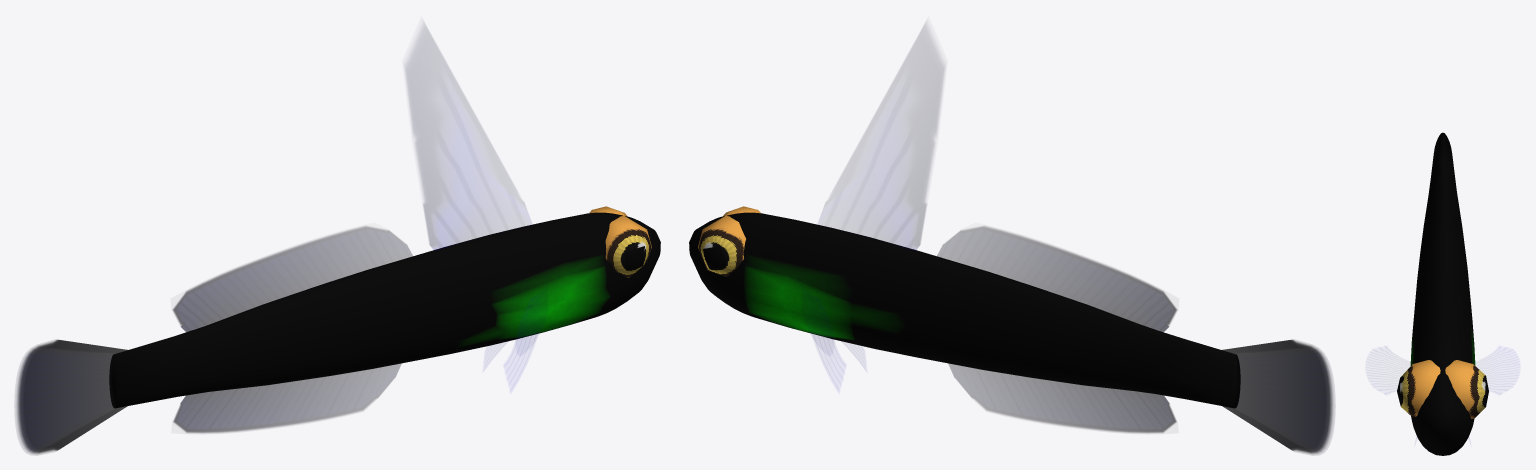
Rendered from firefish_lod1.glb.
3 renders of one model, left to right at view 1: azimuth 30°, elevation 25°; view 2: azimuth 150°, elevation 25°; view 3: azimuth 270°, elevation 25°, orthographic. The views are drawn at different scales.
Parts seen in each view (by area): view 1: Body, FinDorsal, FinDorsal2, FinCaudal, FinAnal, EyeR; view 2: Body, FinDorsal, FinDorsal2, FinCaudal, FinAnal, EyeL; view 3: Body, EyeL, EyeR.
Part boxes in pixels (box(x1,y1,x2,y2)): Body: box(109, 212, 660, 408); FinDorsal: box(405, 25, 526, 250); FinDorsal2: box(172, 226, 412, 332); FinCaudal: box(15, 339, 128, 454); FinAnal: box(173, 364, 400, 433); EyeR: box(605, 215, 651, 277); Body: box(689, 212, 1240, 408); FinDorsal: box(823, 25, 944, 250); FinDorsal2: box(937, 226, 1177, 332); FinCaudal: box(1221, 339, 1334, 454); FinAnal: box(949, 364, 1176, 433); EyeL: box(698, 215, 745, 276); Body: box(1410, 132, 1475, 455); EyeL: box(1445, 360, 1488, 418); EyeR: box(1397, 360, 1440, 416).
Size of the model in its own units: 1 by 0.5768 by 0.2066.
Materials: 4 (3 with a texture image).
